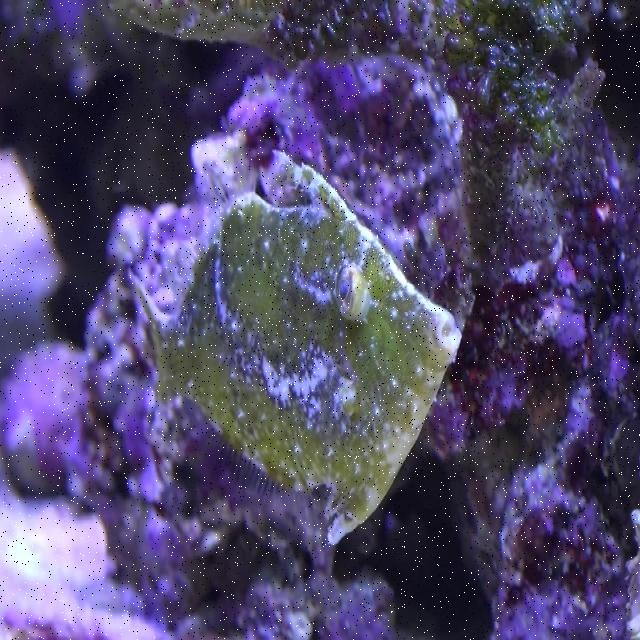fish: (131, 152, 460, 546)
reefs: (103, 2, 639, 639), (0, 55, 476, 639)
